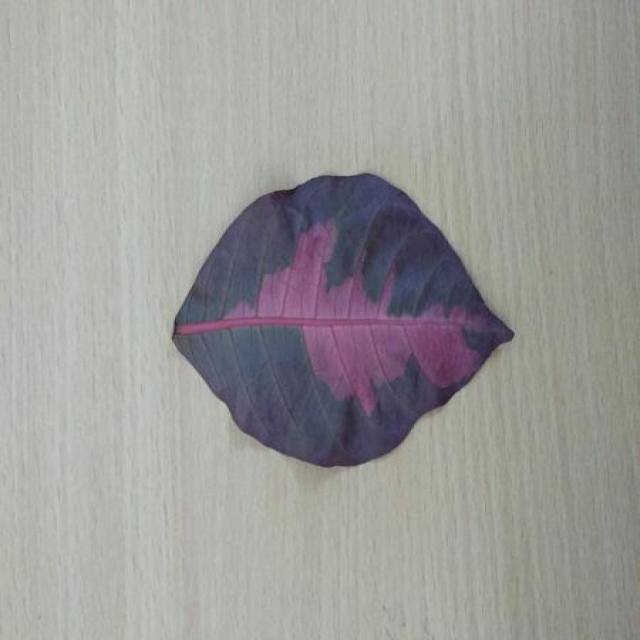caricature: (175, 174, 513, 466)
